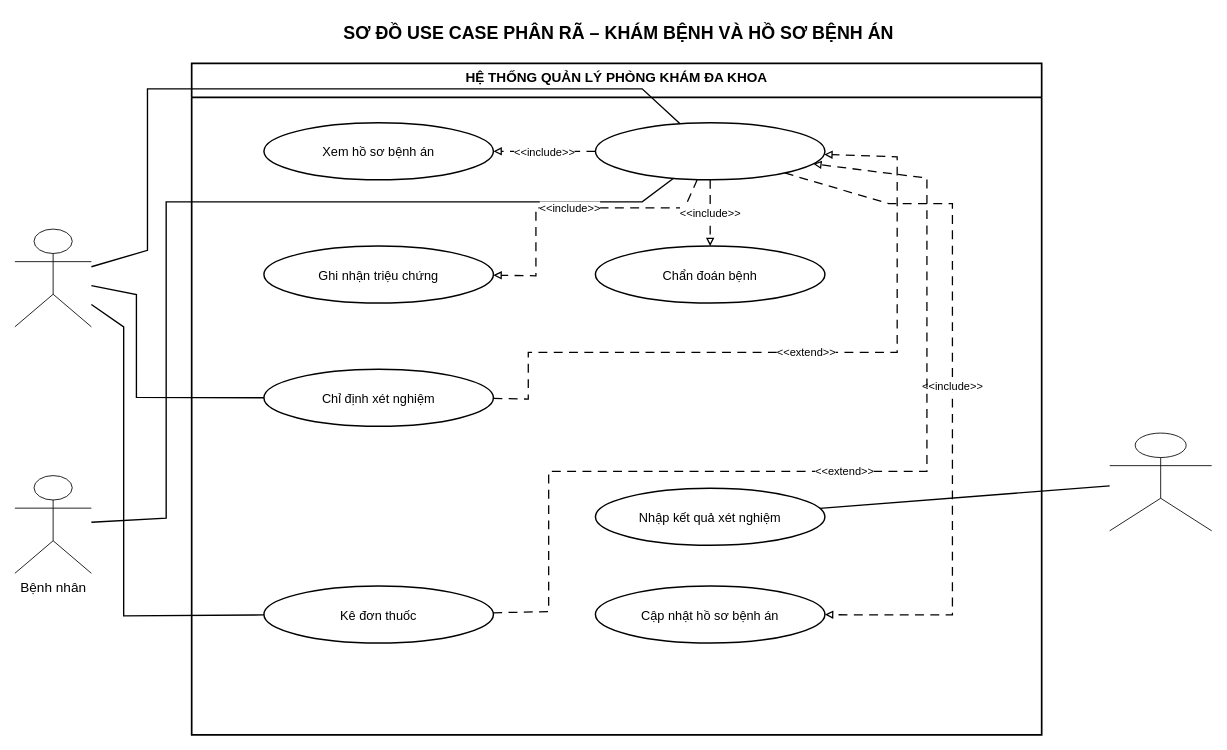
The diagram is 1227 pixels wide and 750 high, and some of its shapes have lost their labels. The box of each missing label's shape, as (x1, y1, x2, y2) in pixels:
Bác sĩ: (14, 228, 91, 327)
Khám bệnh: (594, 122, 825, 180)
Kỹ thuật viên xét nghiệm: (1109, 432, 1212, 531)
